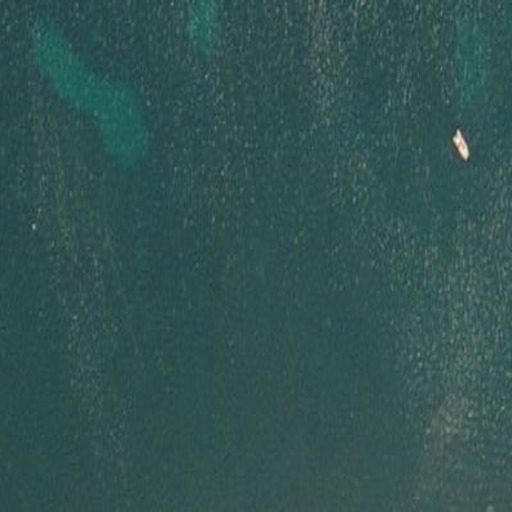ship: (451, 128, 471, 166)
